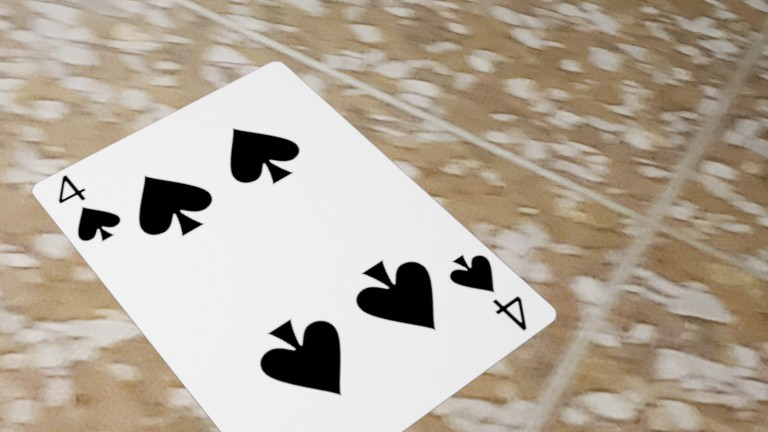4_of_spades: (173, 97, 222, 138), (14, 66, 54, 102)
